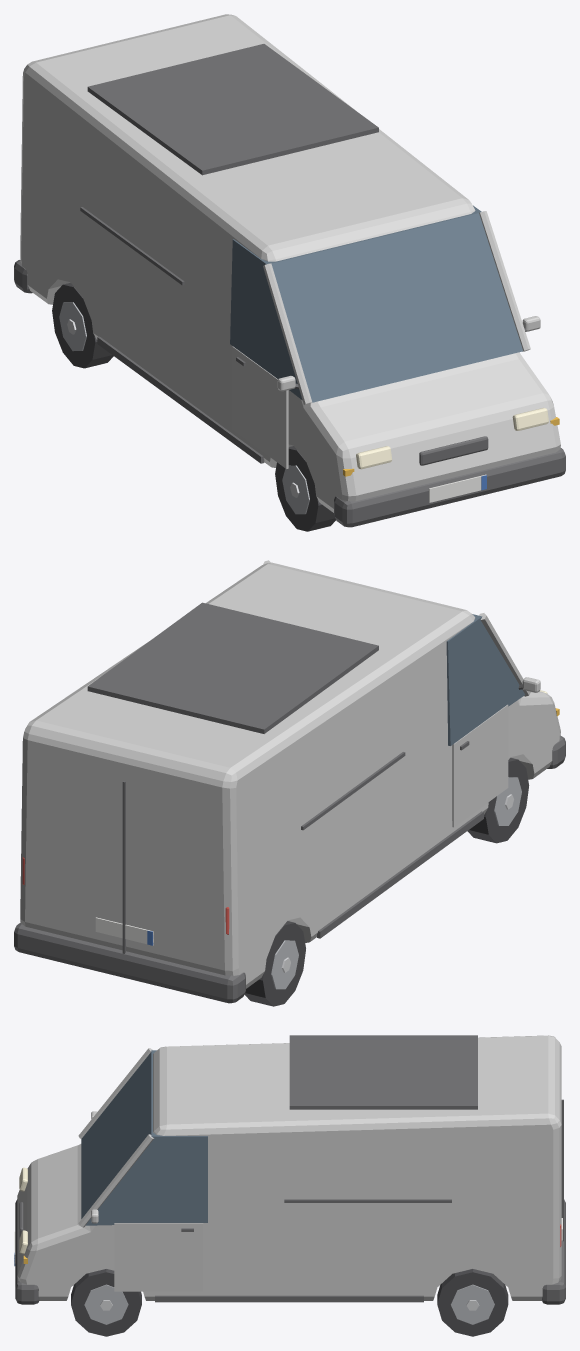
Rendered from van-delivery.glb.
The picture shows the model from 3 angles, top to bottom: view 1: azimuth 30°, elevation 25°; view 2: azimuth 150°, elevation 25°; view 3: azimuth 270°, elevation 25°; orthographic projection. The views are drawn at different scales.
Visible parts, largest first — view 1: body, detach_bumper_front, detach_door_right, wheel-back-right, wheel-front-right; view 2: body, detach_bumper_back, detach_door_right, wheel-back-right, wheel-front-right; view 3: body, detach_door_left, wheel-back-left, wheel-front-left, detach_bumper_back, detach_bumper_front.
Part boxes in pixels (x1=…): body: x1=20, y1=14, x2=560, y2=512; detach_bumper_front: x1=334, y1=448, x2=565, y2=527; detach_door_right: x1=232, y1=346, x2=288, y2=468; wheel-back-right: x1=52, y1=282, x2=113, y2=368; wheel-front-right: x1=275, y1=446, x2=335, y2=531; body: x1=20, y1=560, x2=560, y2=988; detach_bumper_back: x1=14, y1=922, x2=245, y2=1003; detach_door_right: x1=452, y1=704, x2=508, y2=827; wheel-back-right: x1=244, y1=921, x2=305, y2=1006; wheel-front-right: x1=467, y1=757, x2=529, y2=843; body: x1=17, y1=1035, x2=563, y2=1302; detach_door_left: x1=114, y1=1223, x2=203, y2=1291; wheel-back-left: x1=437, y1=1269, x2=508, y2=1336; wheel-front-left: x1=71, y1=1269, x2=141, y2=1336; detach_bumper_back: x1=542, y1=1199, x2=565, y2=1304; detach_bumper_front: x1=14, y1=1199, x2=39, y2=1304.
Bounding box in the file's own units: 2.36 × 2.36 × 5.27.
